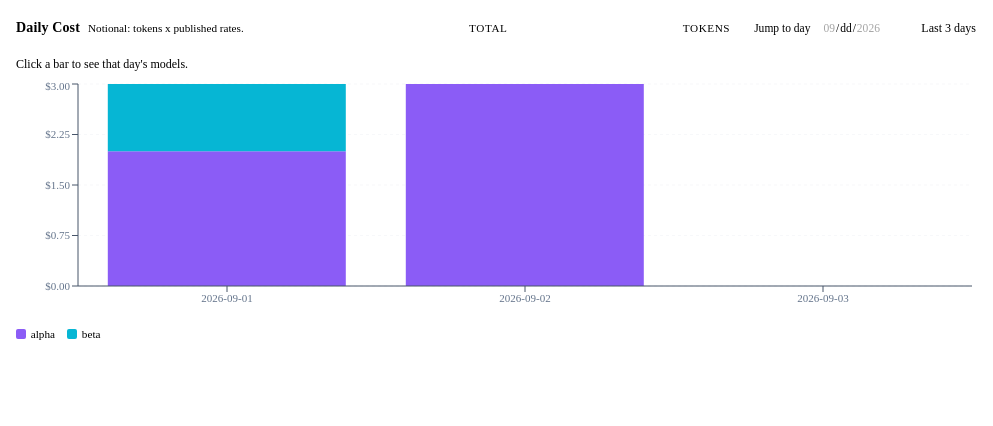
Scenario: DailyCostSection › the date input opens a day without a mouse, is bounded to the window, and clears
This screenshot has width=993, height=426.
In the date field labelled "Jump to day": (863, 28) [816, 17, 909, 40], type "2026-09-03"
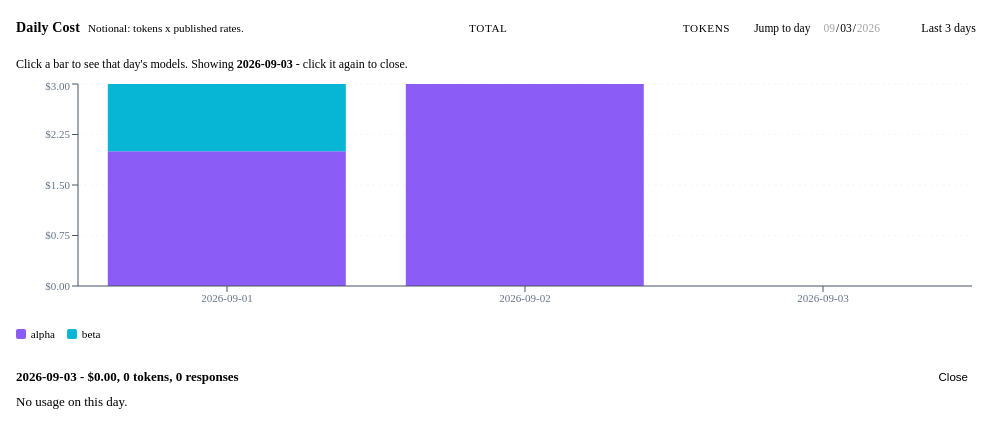
Expected: the text "No usage on this day." is shown, [16, 394, 128, 409]
Clear the date field labelled "Jump to day": (863, 28) [816, 17, 909, 40]
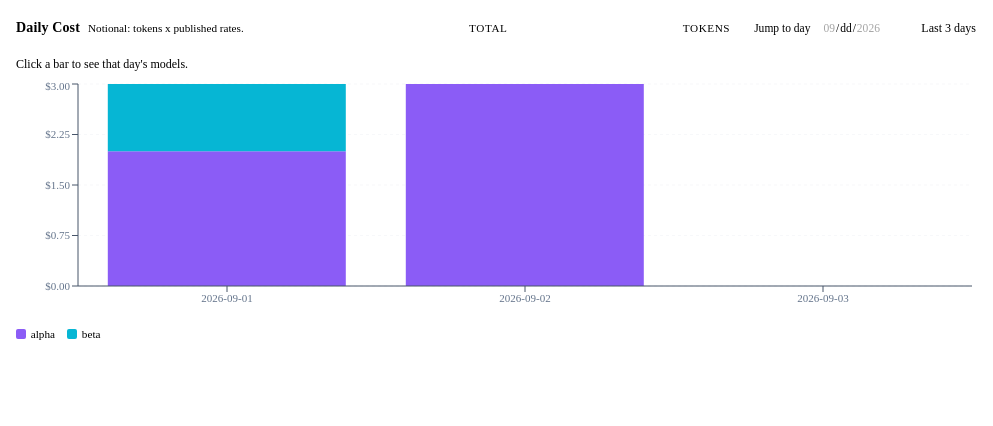
Expected: the text "usage on" is gone
